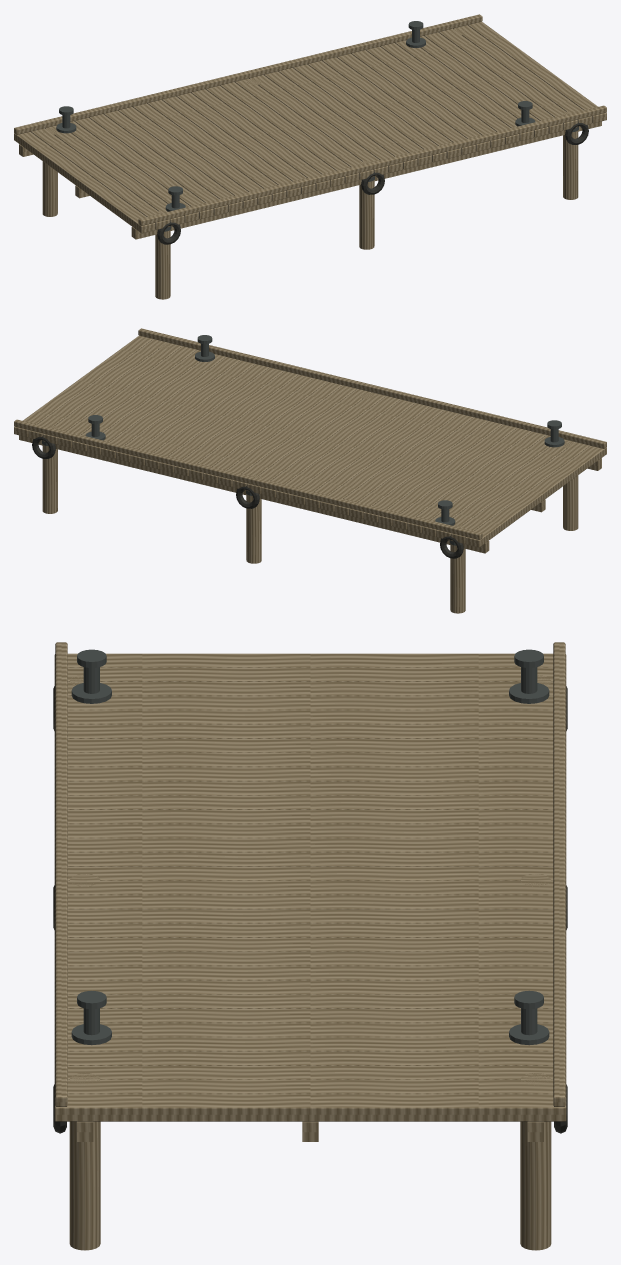
The model's file is harbour-pier.glb.
The picture shows the model from 3 angles, top to bottom: view 1: azimuth 30°, elevation 25°; view 2: azimuth 150°, elevation 25°; view 3: azimuth 270°, elevation 25°; orthographic projection. The views are drawn at different scales.
Visible parts, largest first — view 1: landing deck board, pile iron collar, rubber dock fender; view 2: landing deck board, pile iron collar, rubber dock fender; view 3: landing deck board, pile iron collar, rubber dock fender.
Part boxes in pixels (<box>): landing deck board: <box>14,14,606,299</box>; pile iron collar: <box>56,21,578,231</box>; rubber dock fender: <box>157,122,588,244</box>; landing deck board: <box>14,328,606,613</box>; pile iron collar: <box>42,335,564,545</box>; rubber dock fender: <box>32,436,463,558</box>; landing deck board: <box>54,642,566,1250</box>; pile iron collar: <box>71,649,549,1045</box>; rubber dock fender: <box>53,686,567,1133</box>.
Size of the model in its own units: 16 by 3.35 by 7.64.
Materials: 3 (1 with a texture image).
